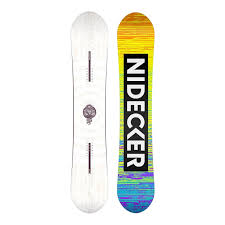snowboard: (68, 11, 110, 214), (115, 13, 156, 214)
